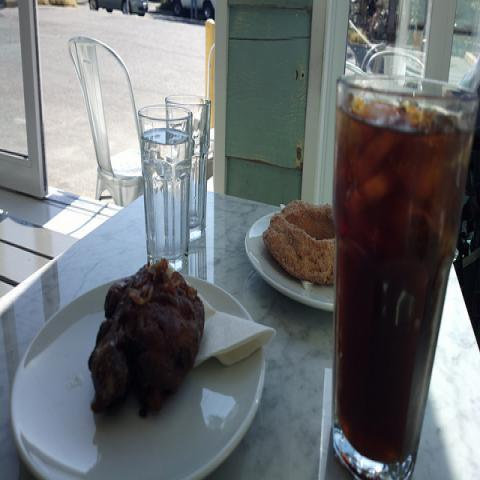car: (89, 0, 148, 16), (171, 0, 215, 21)
